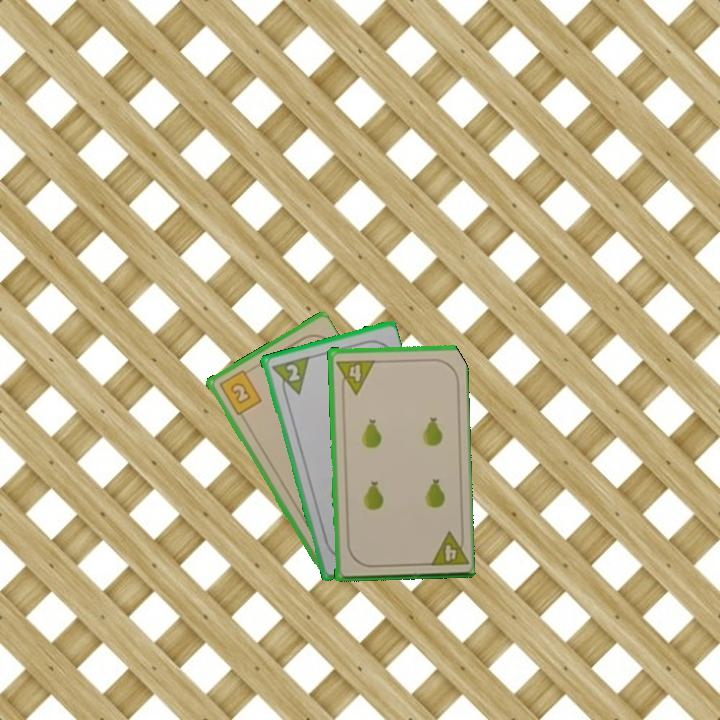2b: (215, 365, 264, 418)
2p: (267, 352, 311, 400)
4p: (424, 527, 469, 569), (332, 356, 376, 396)
